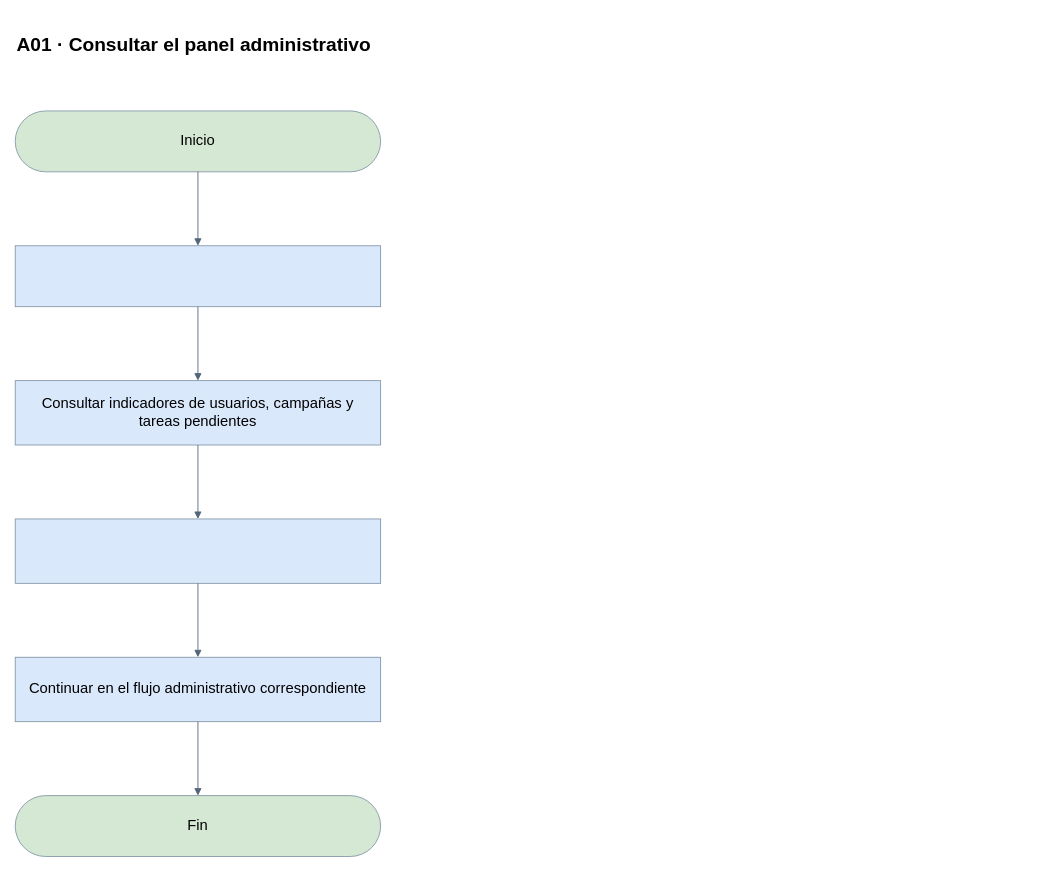
This 1057x872 diagram has some shape labels left out. The centre of each missing label's shape, as x and y in pixels:
"Abrir Estadísticas en la barra lateral" belongs at [197,276].
"Elegir un acceso: usuarios, campañas, KYC, revisión o auditoría de gastos" belongs at [197,550].
